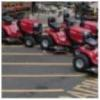tractors: (42, 13, 94, 56), (3, 12, 43, 48), (74, 30, 99, 80)
